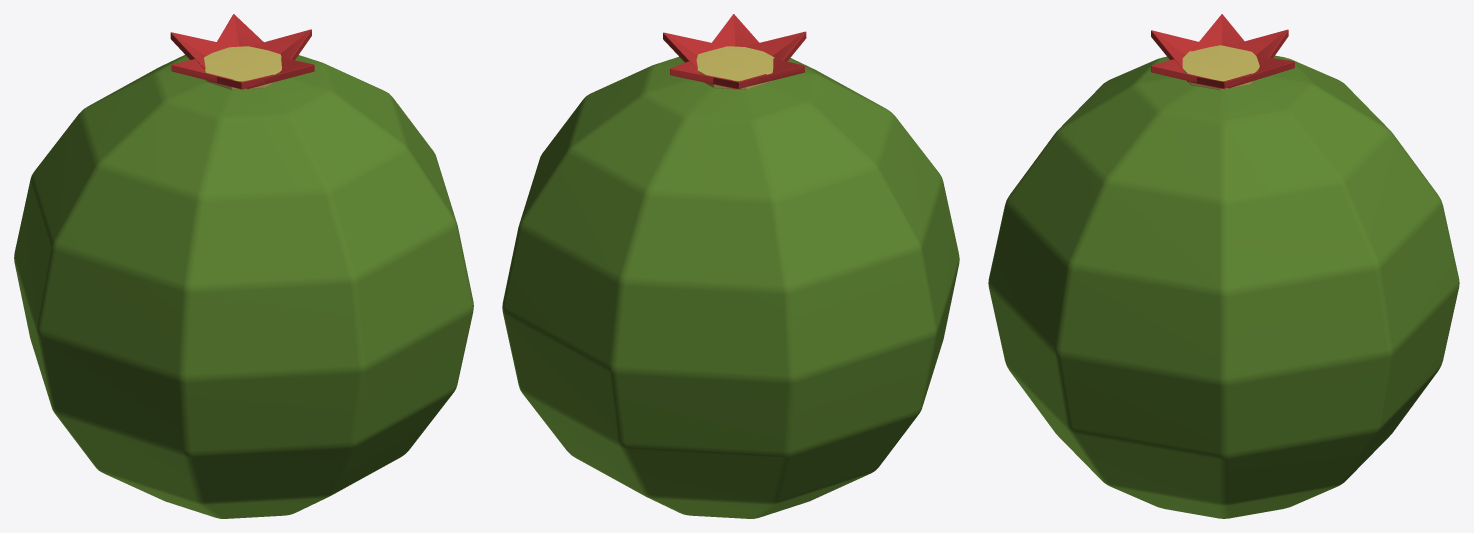
Rendered from SphereCactus.fbx.
3 views of the same model, side by side, from view 1: azimuth 30°, elevation 25°; view 2: azimuth 150°, elevation 25°; view 3: azimuth 270°, elevation 25° (orthographic).
Visible parts, largest first — view 1: SphereCactus, FlowerCentre, FlowerLeaf4, FlowerLeaf3, FlowerLeaf5, FlowerLeaf2, FlowerLeaf6; view 2: SphereCactus, FlowerCentre, FlowerLeaf2, FlowerLeaf1, FlowerLeaf3, FlowerLeaf6, FlowerLeaf4; view 3: SphereCactus, FlowerCentre, FlowerLeaf6, FlowerLeaf5, FlowerLeaf1, FlowerLeaf4, FlowerLeaf2.
Boxes of the visible parts, box(x1,y1,x2,y2) form: SphereCactus: box(14, 55, 473, 518); FlowerCentre: box(204, 46, 281, 89); FlowerLeaf4: box(210, 14, 263, 53); FlowerLeaf3: box(250, 29, 311, 60); FlowerLeaf5: box(170, 32, 216, 69); FlowerLeaf2: box(247, 57, 314, 88); FlowerLeaf6: box(171, 59, 233, 82); SphereCactus: box(502, 57, 959, 518); FlowerCentre: box(696, 46, 774, 89); FlowerLeaf2: box(705, 14, 759, 51); FlowerLeaf1: box(743, 31, 806, 61); FlowerLeaf3: box(663, 32, 711, 69); FlowerLeaf6: box(749, 58, 804, 86); FlowerLeaf4: box(670, 61, 733, 83); SphereCactus: box(988, 55, 1459, 518); FlowerCentre: box(1182, 45, 1259, 90); FlowerLeaf6: box(1191, 14, 1244, 51); FlowerLeaf5: box(1227, 29, 1288, 57); FlowerLeaf1: box(1151, 30, 1198, 68); FlowerLeaf4: box(1228, 56, 1294, 88); FlowerLeaf2: box(1151, 59, 1209, 82).
Bounding box in the file's own units: 1.99 × 2.08 × 1.99.
